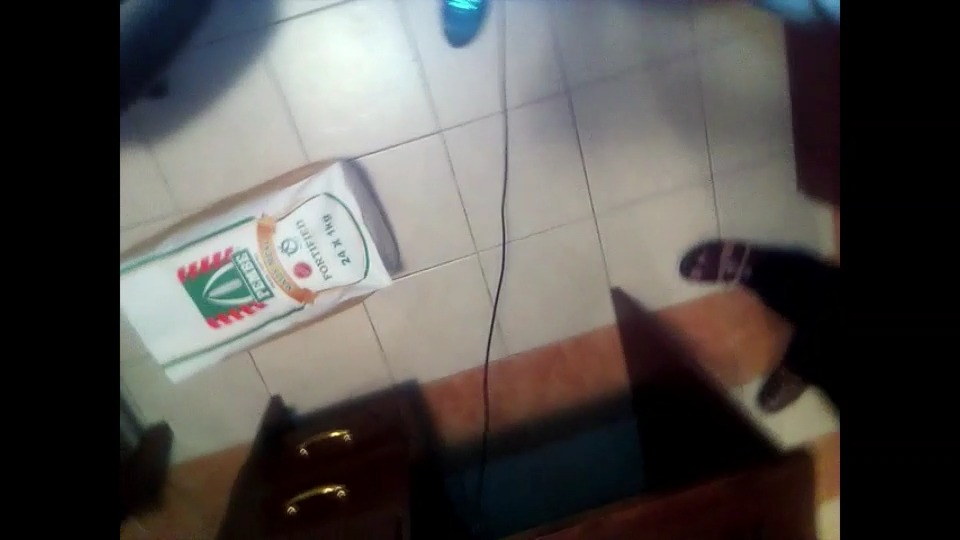maize_flour_green_label: (119, 162, 388, 384)
